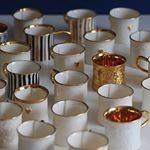cups: (103, 103, 150, 149), (49, 97, 92, 146), (13, 82, 51, 129)
